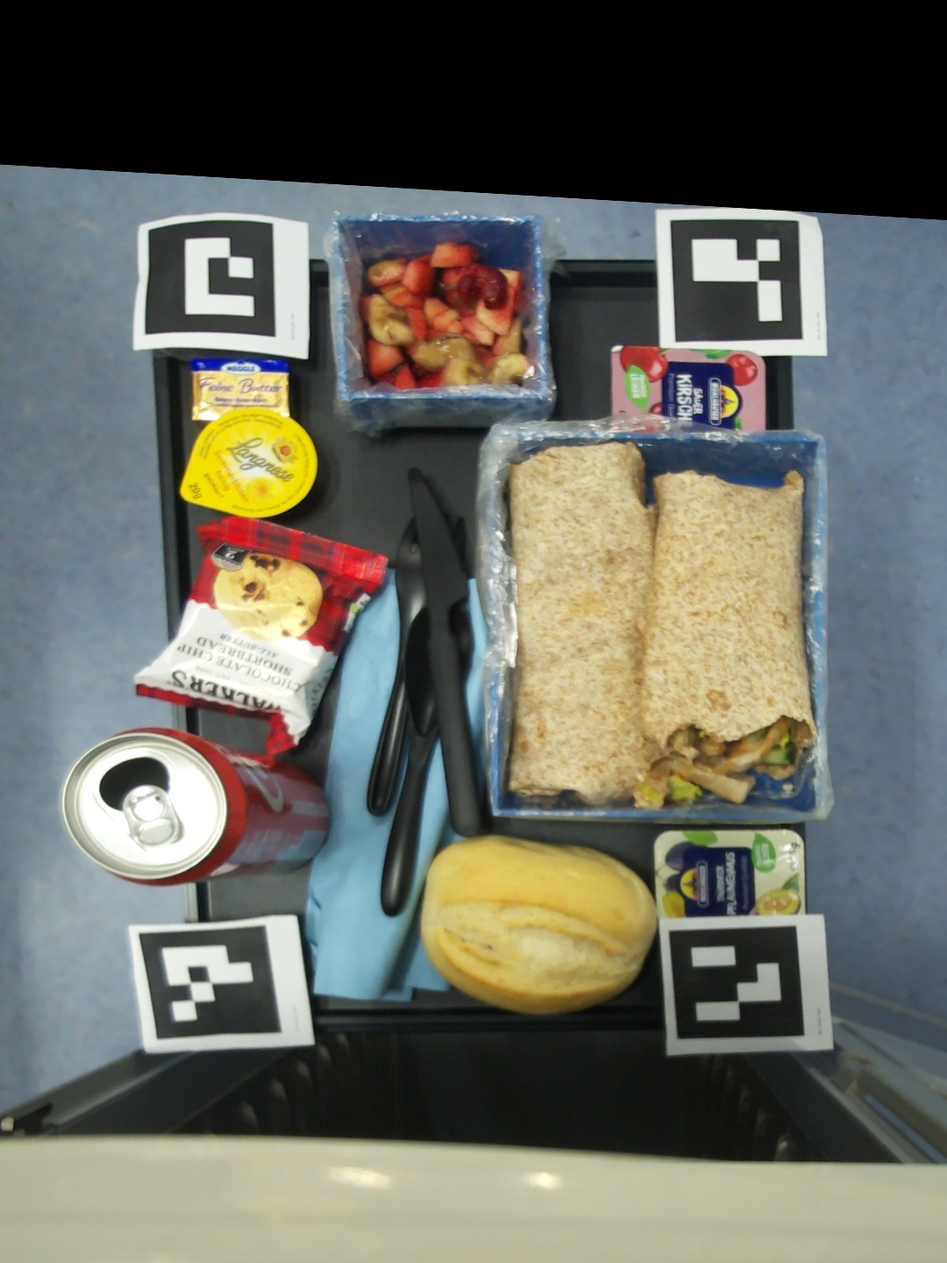bread_roll: (422, 833, 657, 1014)
butter: (190, 357, 296, 429)
cherry_jam: (611, 346, 766, 430)
cola_can: (59, 726, 329, 887)
cookie: (133, 515, 388, 757)
fruit_salad: (360, 241, 525, 387)
honey: (180, 409, 316, 518)
plum_jam: (654, 830, 805, 919)
wrap_half_1: (507, 441, 665, 806)
wrap_half_2: (614, 470, 817, 809)
